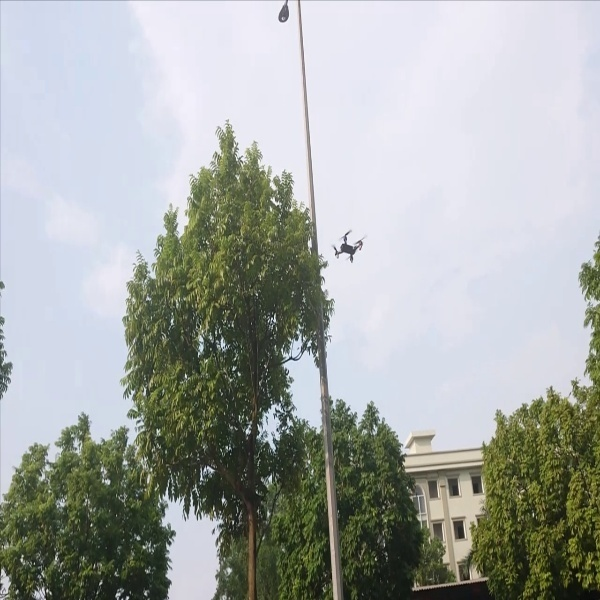drone: (322, 231, 369, 270)
